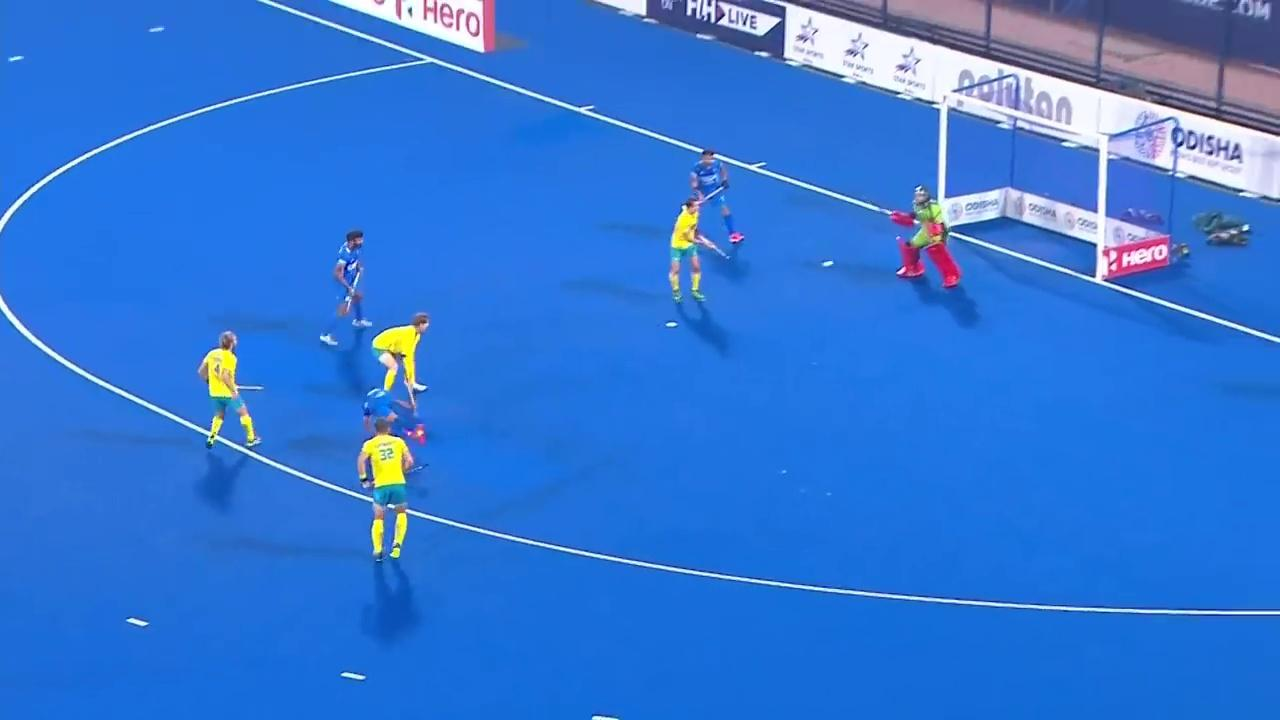ball: (822, 257, 835, 268)
